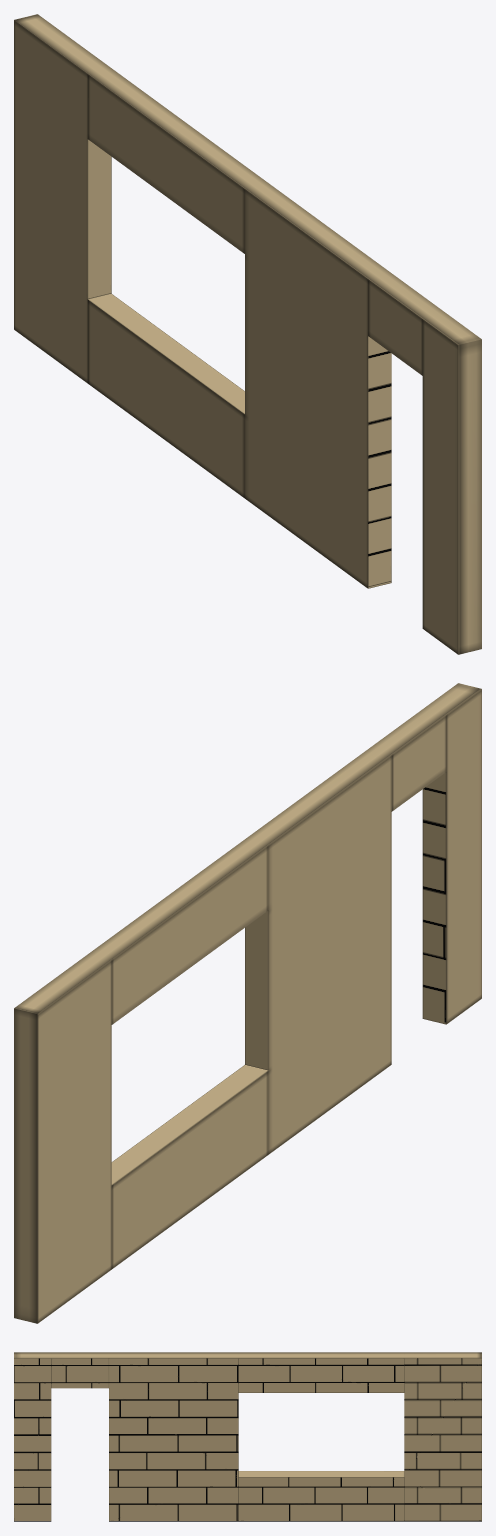
File: PF_HouseWall.fbx
3 renders of one model, top to bottom at view 1: azimuth 30°, elevation 25°; view 2: azimuth 150°, elevation 25°; view 3: azimuth 270°, elevation 25°, orthographic. The views are drawn at different scales.
Parts seen in each view (by area): view 1: Wall; view 2: Wall; view 3: Wall.
Boxes of the visible parts, x1,y1,x2,y2 form: Wall: (14, 14, 481, 654); Wall: (14, 683, 481, 1323); Wall: (14, 1352, 481, 1521).
Size of the model in its own units: 20 by 250 by 650.
